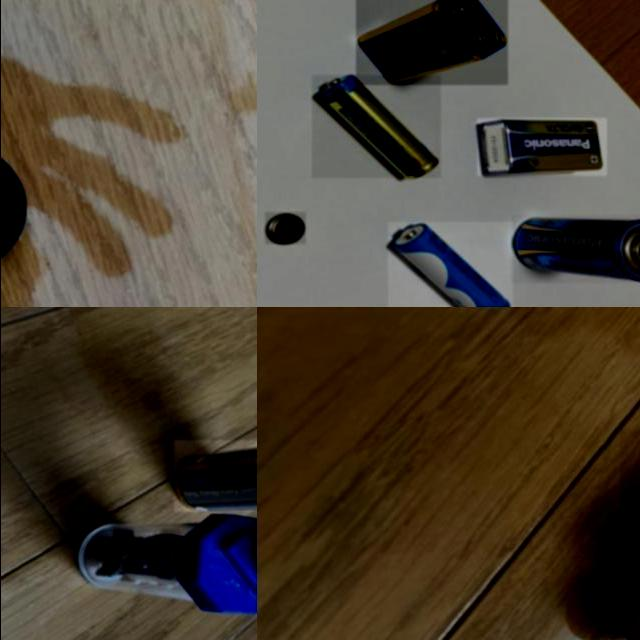9V: (355, 0, 507, 85), (476, 119, 606, 177)
